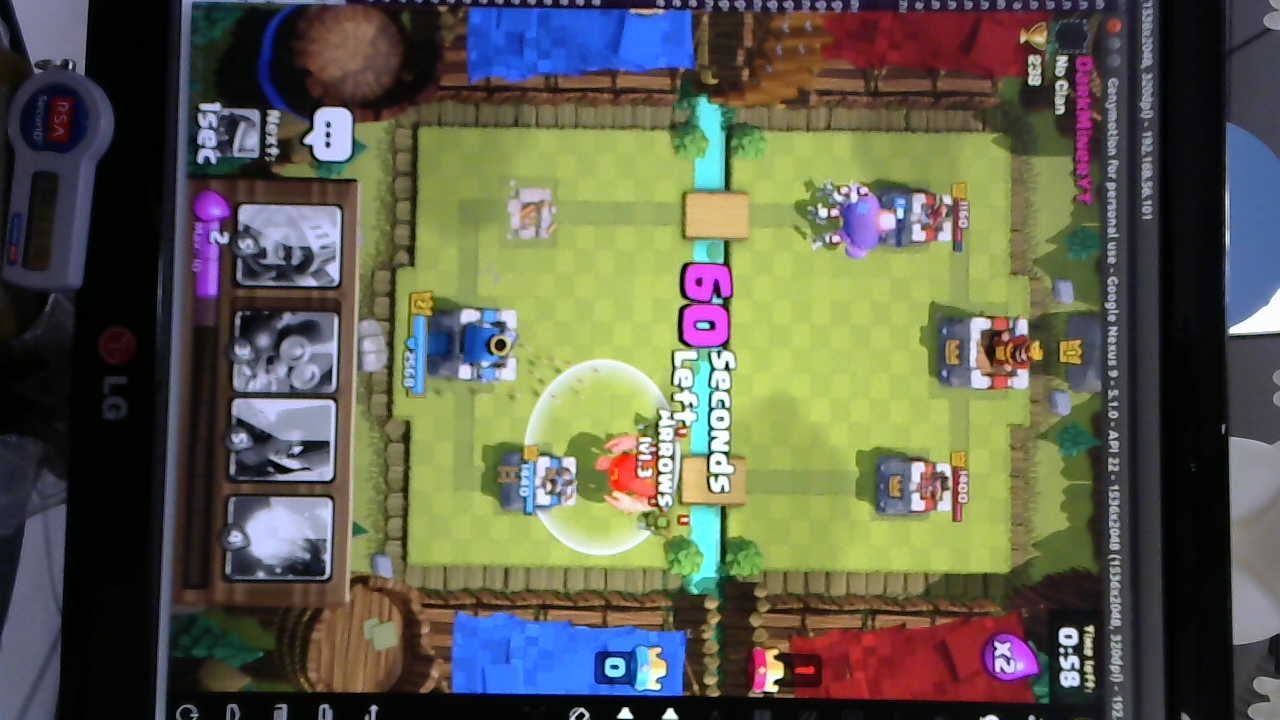arena: (501, 444, 579, 517)
darena: (505, 176, 562, 244)
earena: (873, 452, 954, 521), (874, 189, 958, 253)
eking: (937, 314, 1040, 394)
giant: (596, 427, 672, 519), (837, 179, 895, 262)
king: (426, 301, 527, 385)
